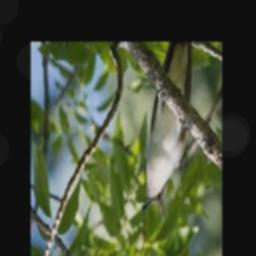Cuckoo: (140, 42, 192, 213)
